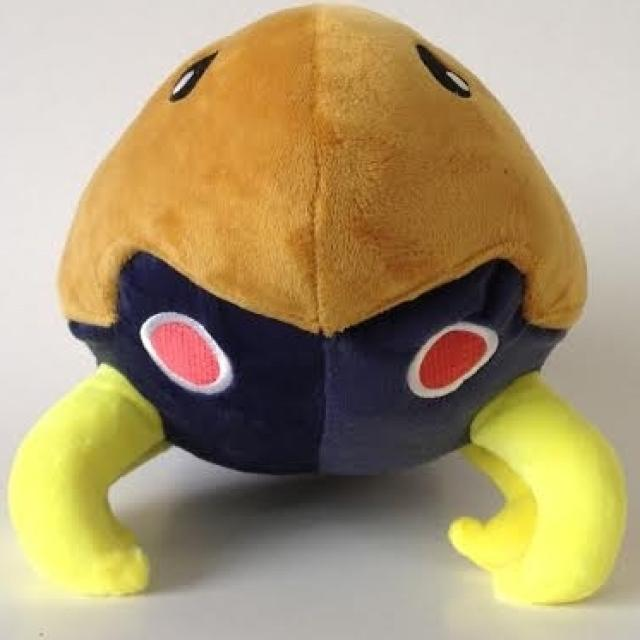Kabuto: (60, 6, 591, 479)
